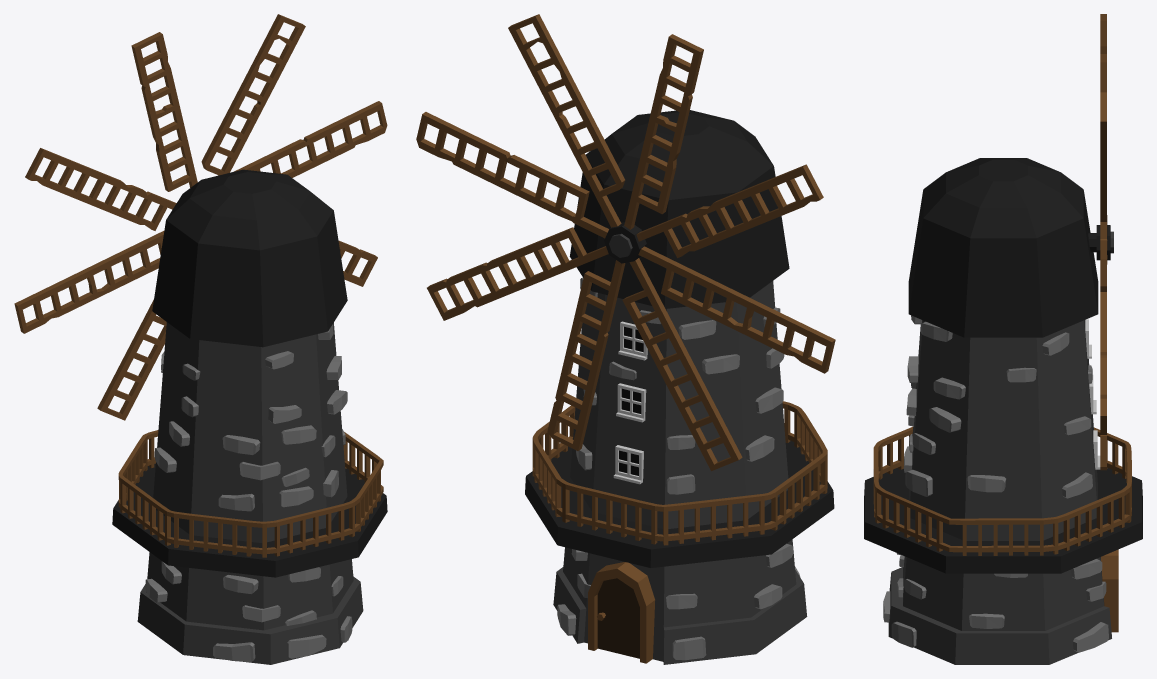
File: TowerWindmill.obj
3 renders of one model, left to right at view 1: azimuth 30°, elevation 25°; view 2: azimuth 150°, elevation 25°; view 3: azimuth 270°, elevation 25°, orthographic. The views are drawn at different scales.
Parts seen in each view (by area): view 1: TowerWindmill; view 2: TowerWindmill; view 3: TowerWindmill.
Part boxes in pixels (x1,y1,x2,y2): TowerWindmill: (14,14,387,664); TowerWindmill: (416,14,835,664); TowerWindmill: (864,14,1142,664).
Bounding box in the file's own units: 7.92 × 11.41 × 4.99.
